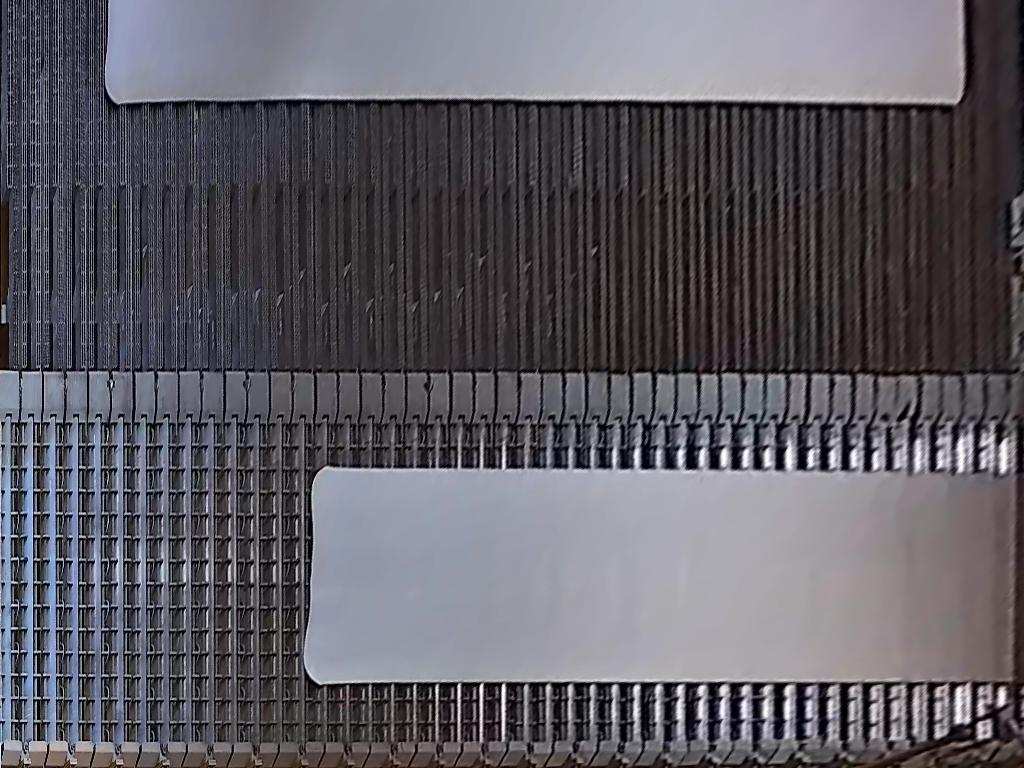steel: (298, 464, 1024, 686), (103, 1, 966, 107)
